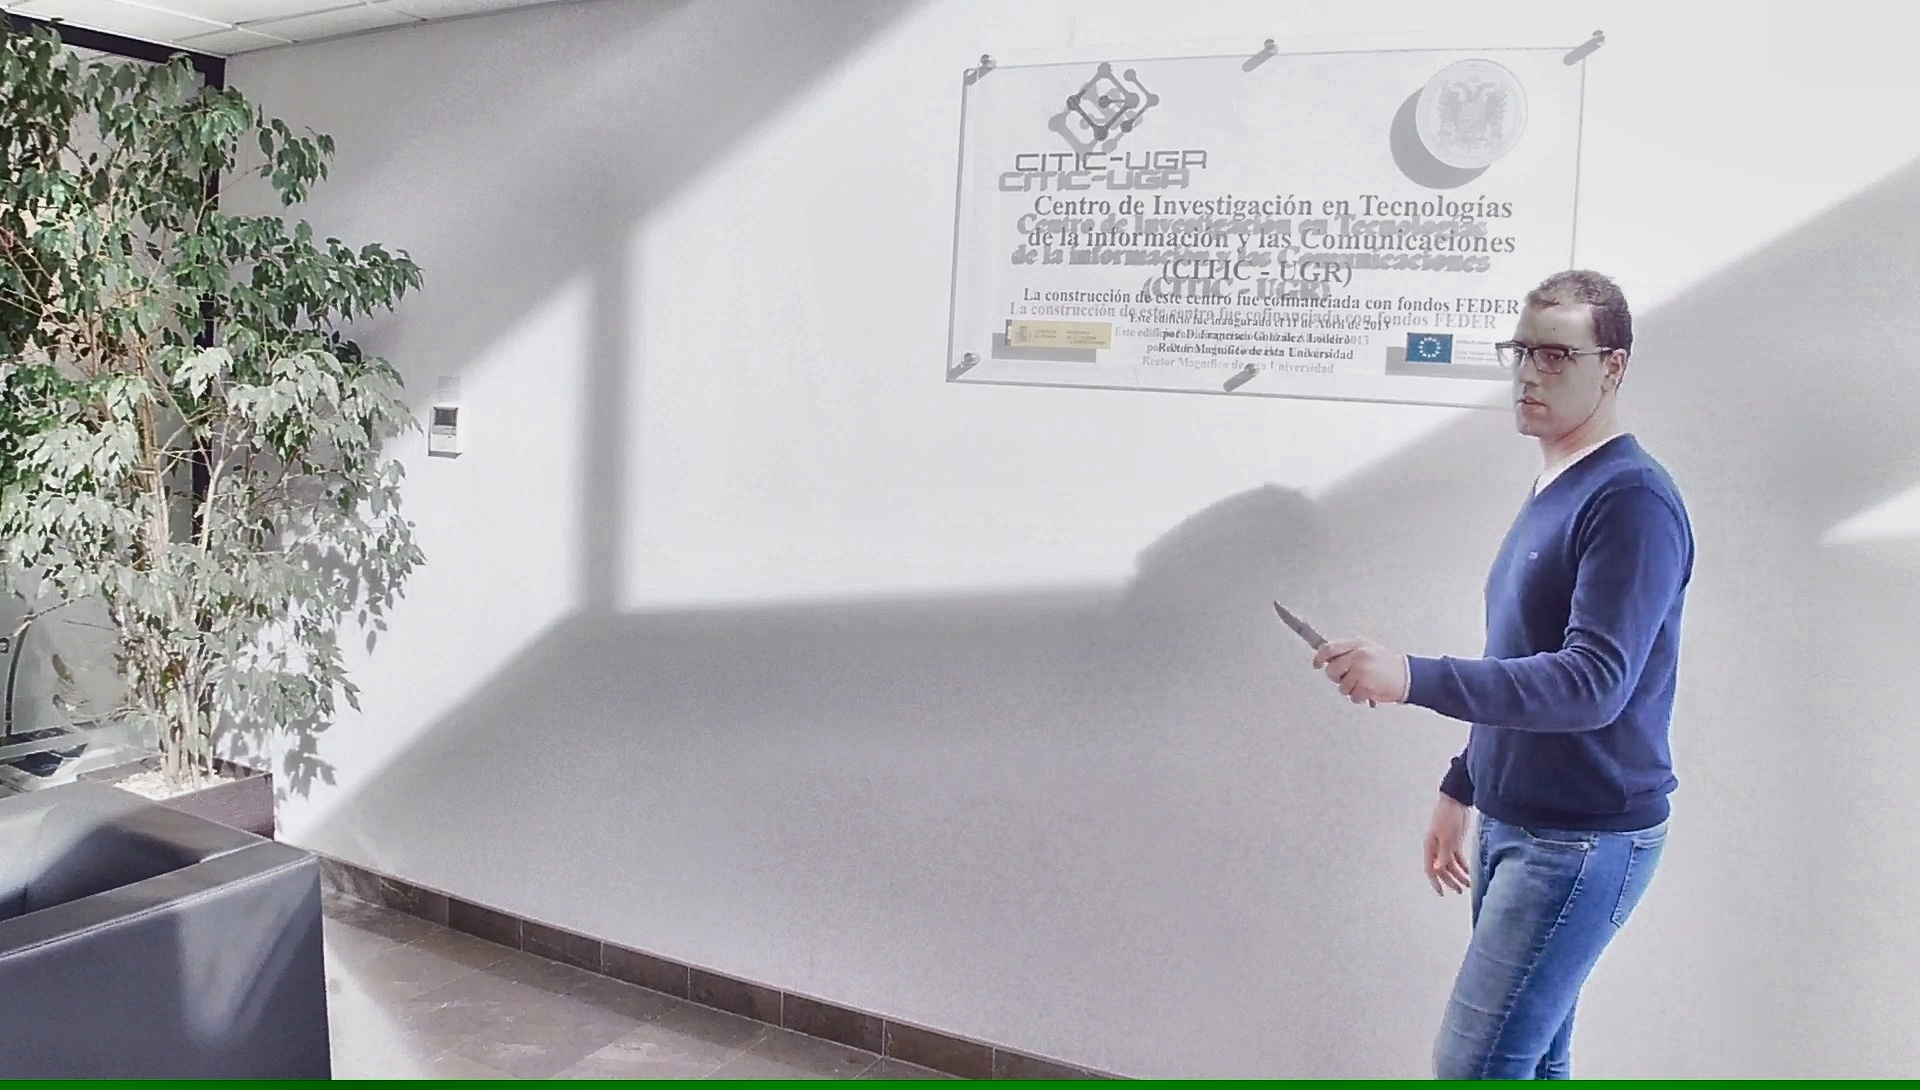knife: (1265, 589, 1382, 714)
